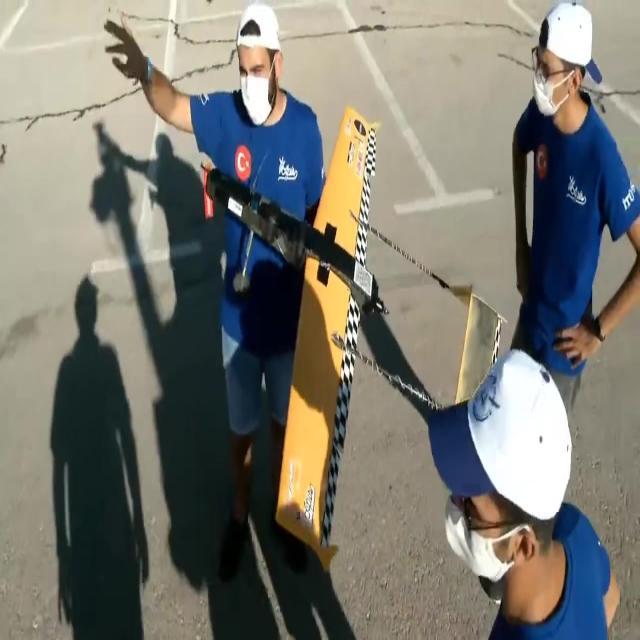iha: (202, 104, 510, 577)
